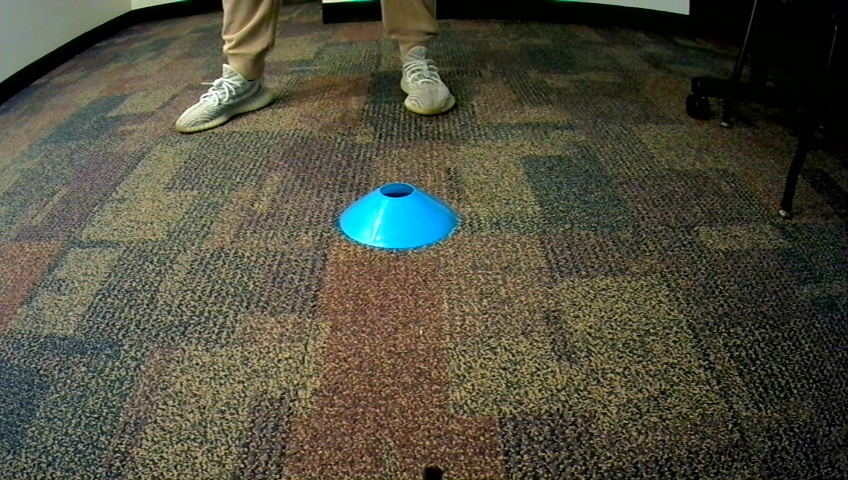cone: (338, 180, 461, 252)
